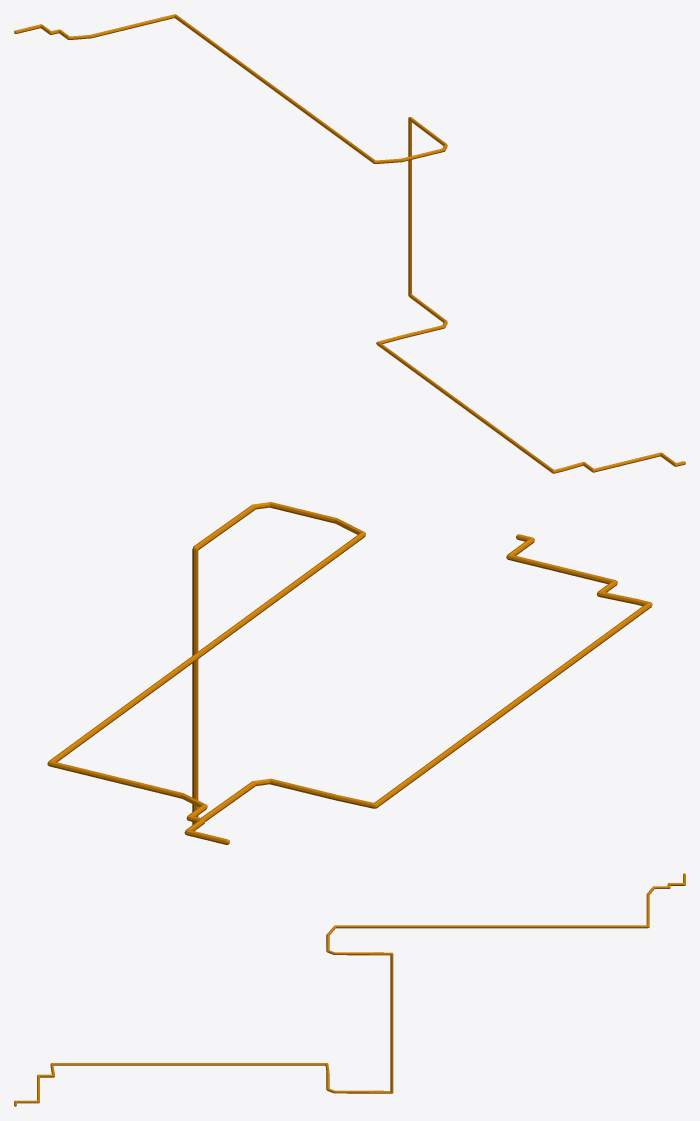
3 views of the same model, one above another, from view 1: azimuth 30°, elevation 25°; view 2: azimuth 150°, elevation 25°; view 3: azimuth 270°, elevation 25° (orthographic). The views are drawn at different scales.
Size of the model in its own units: 1447 by 1020 by 4403.
